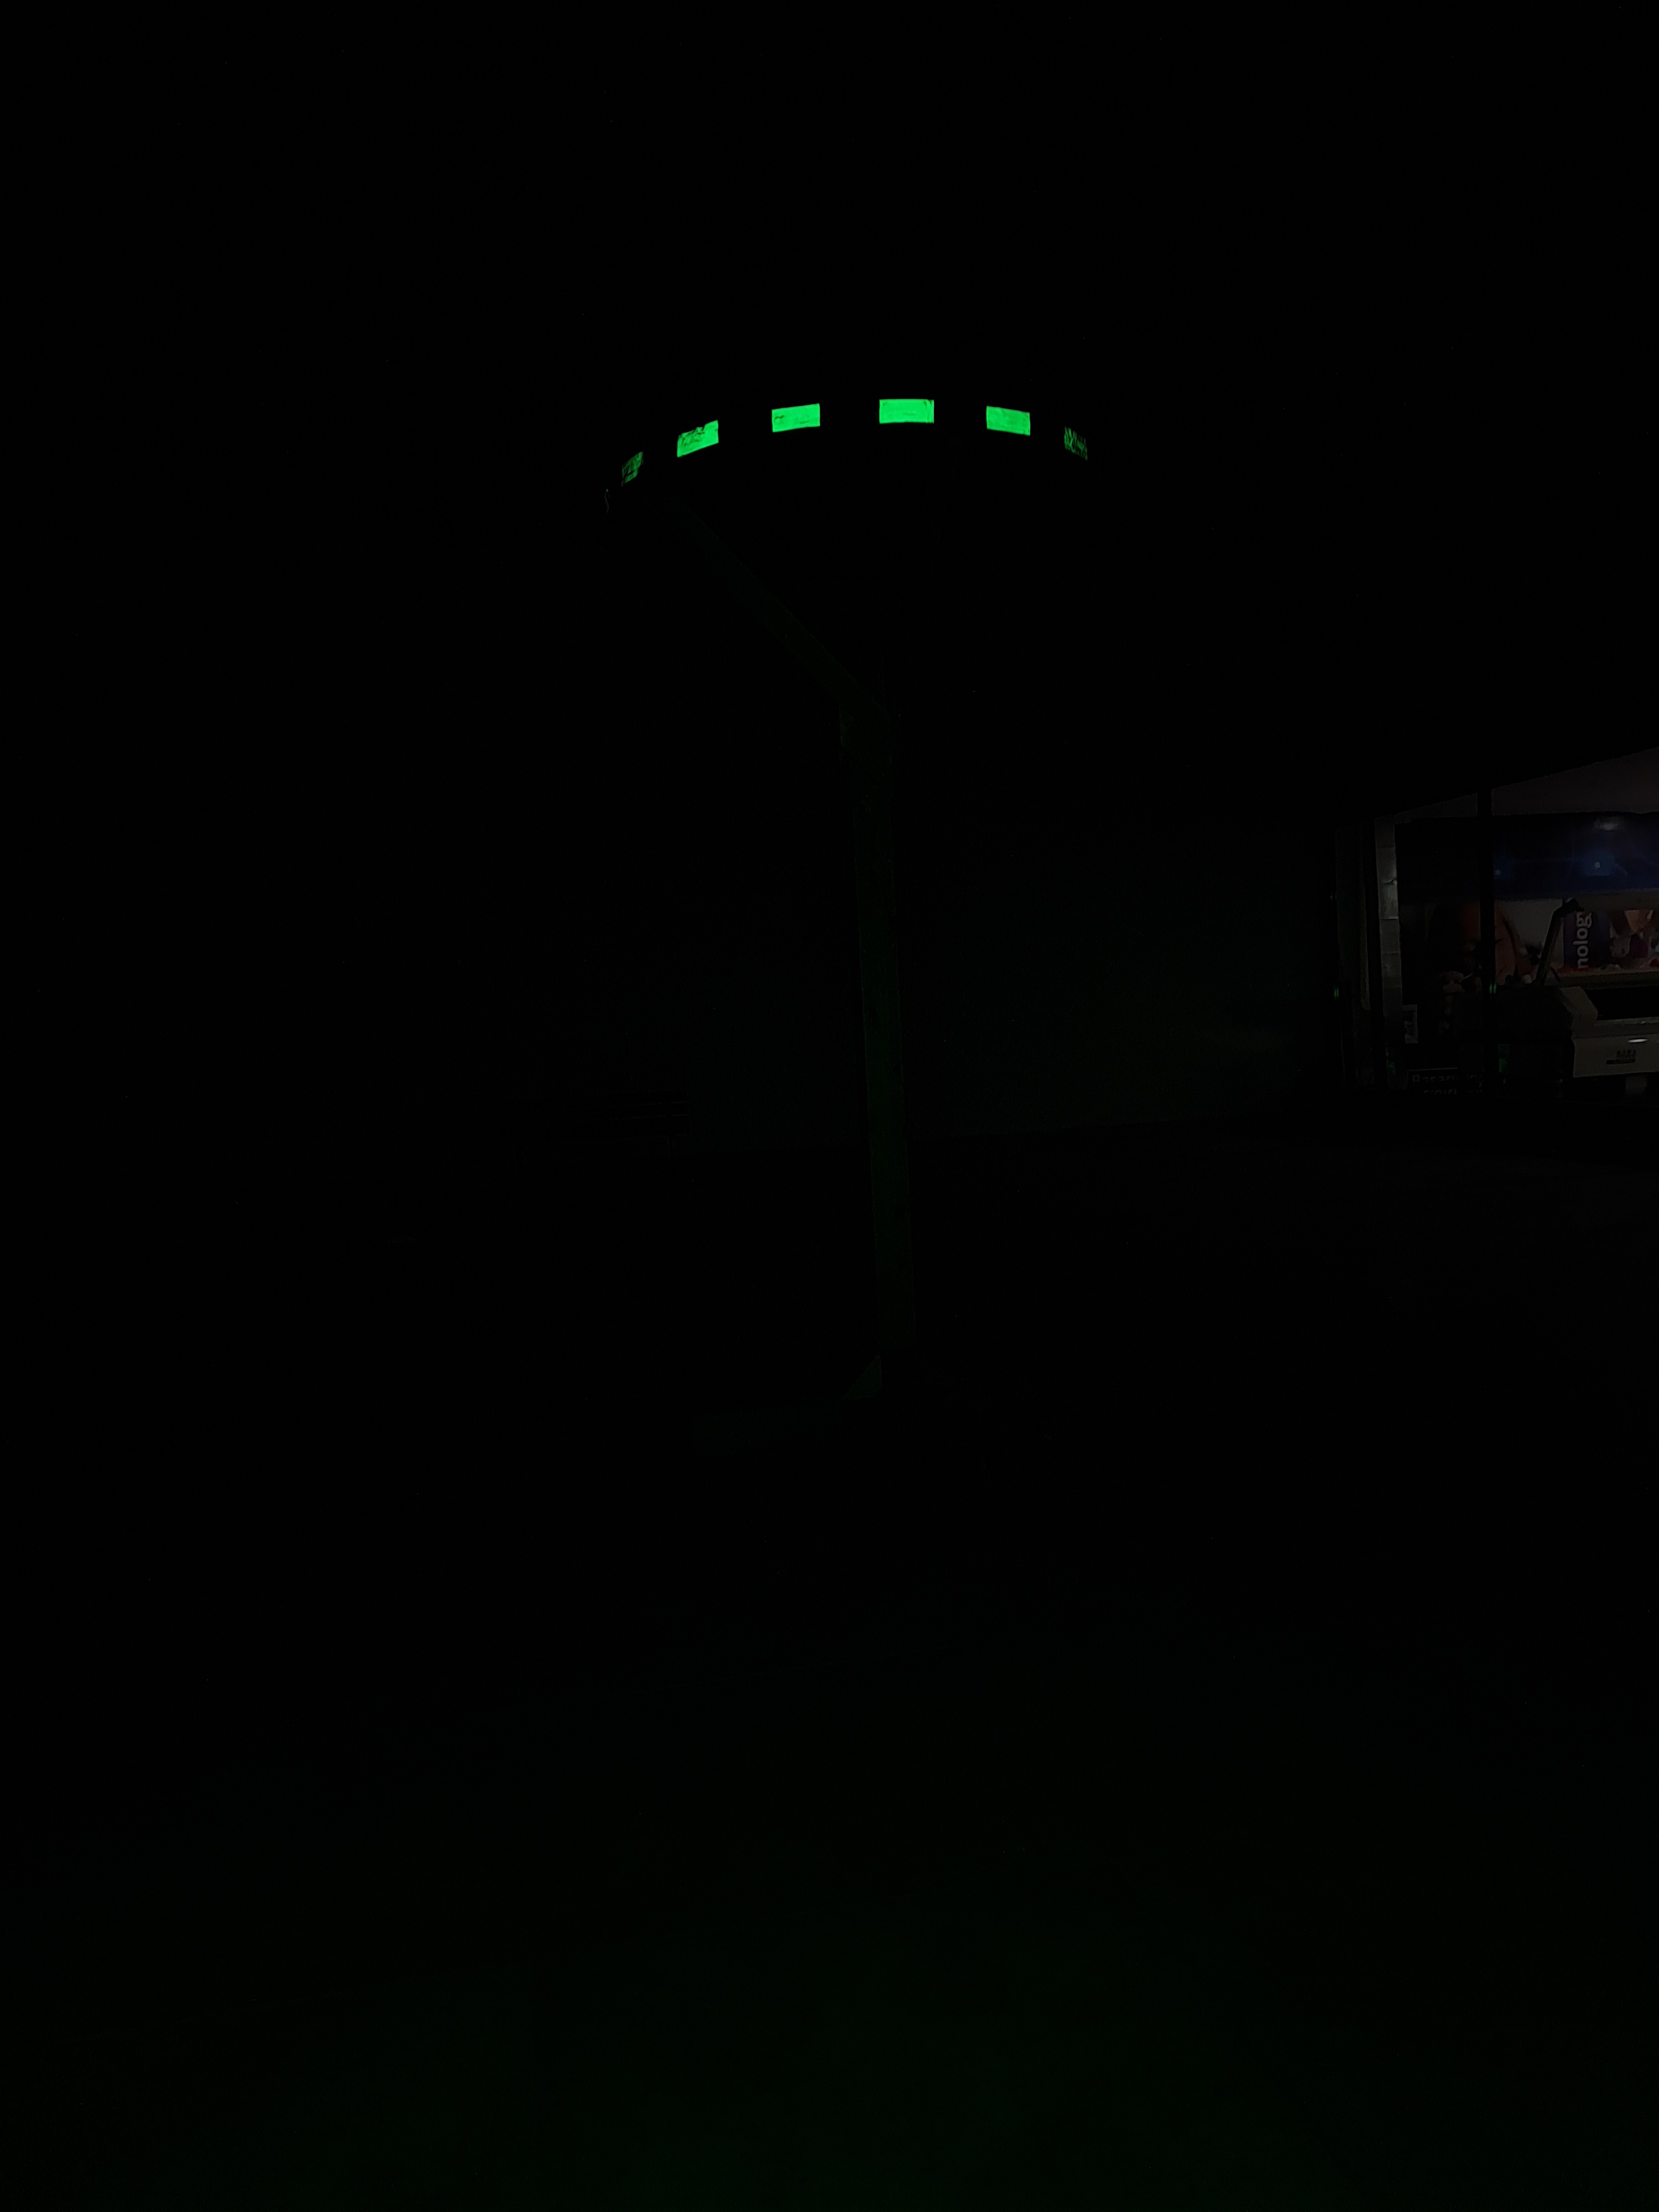hoop: (570, 394, 1122, 491)
